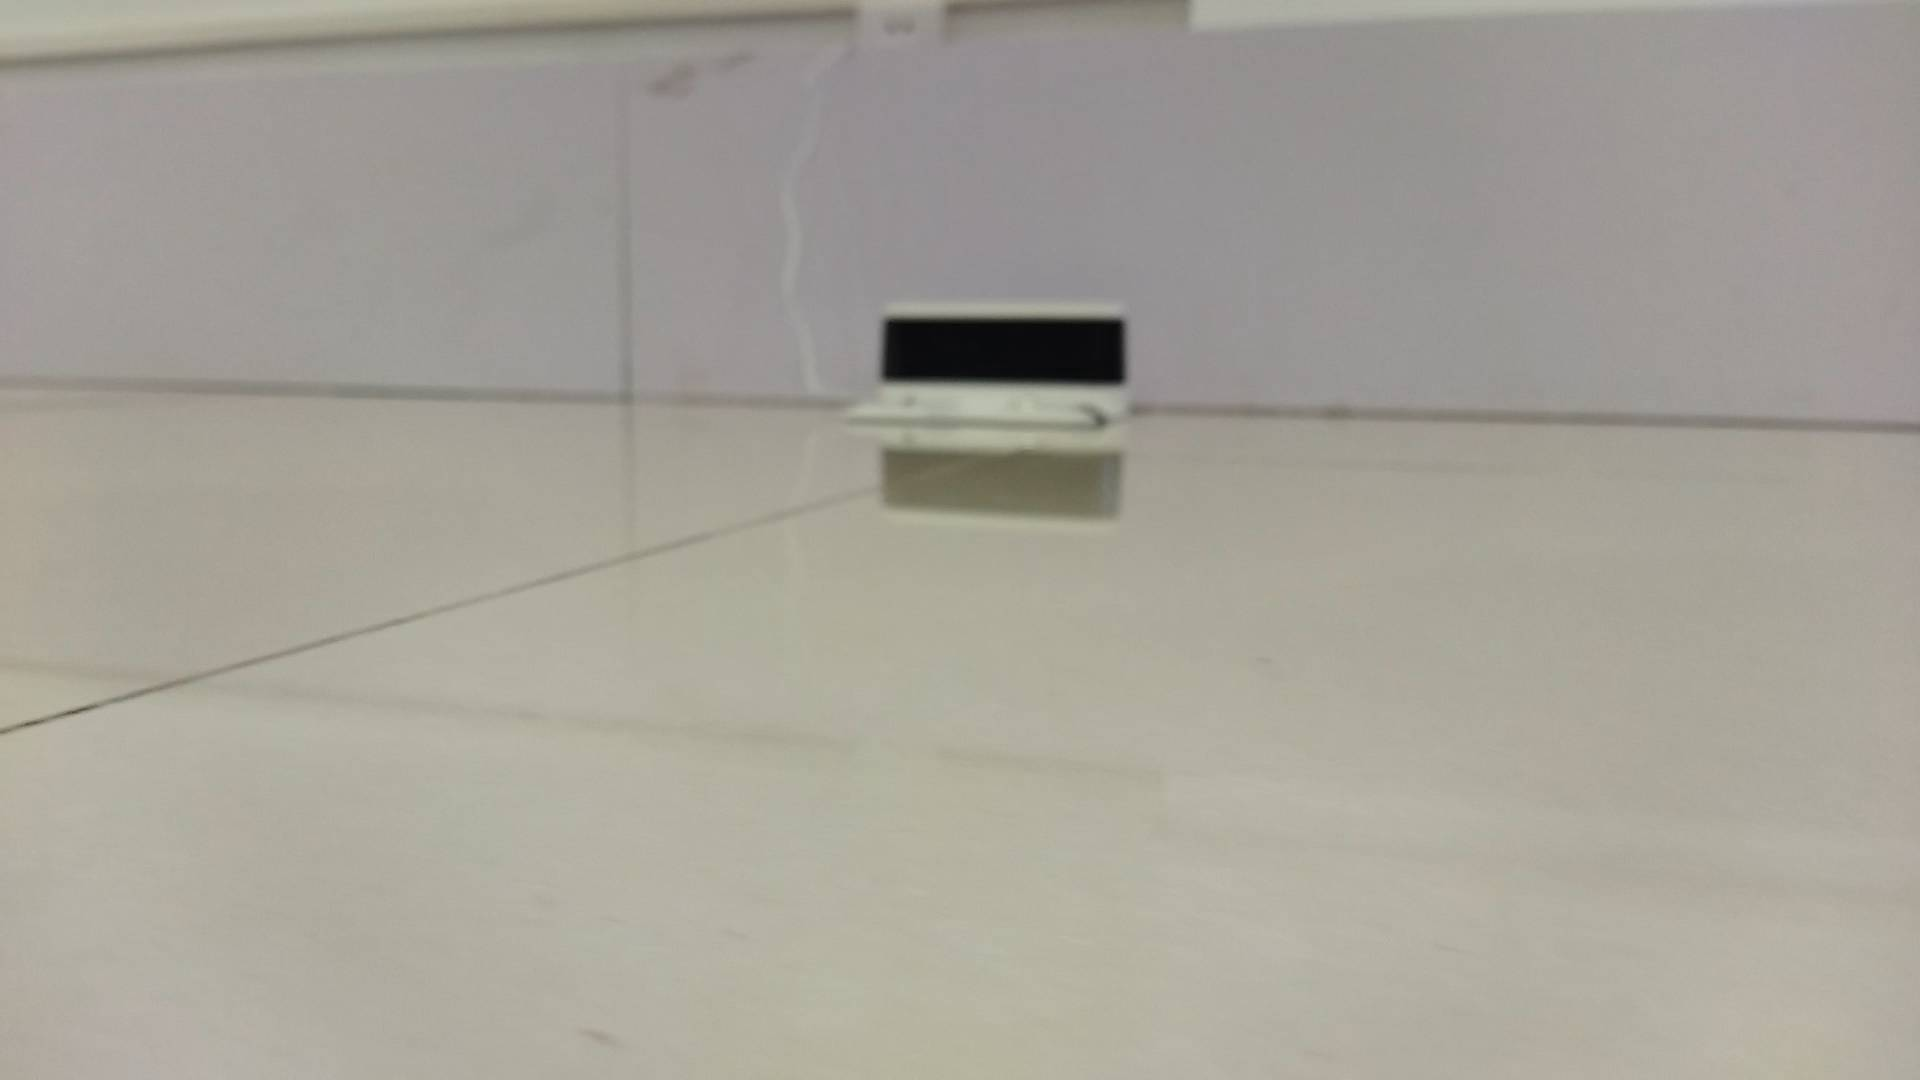recharge seat: (841, 295, 1137, 433)
